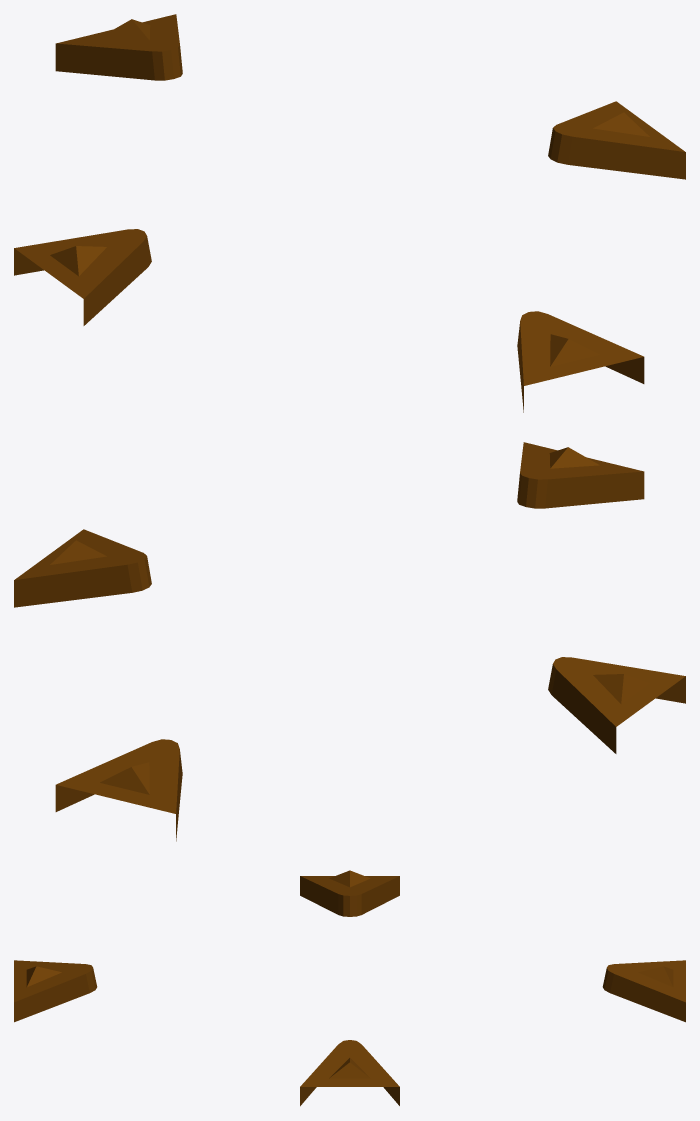
Rendered from Card_TrapMesh01.fbx.
The picture shows the model from 3 angles, top to bottom: view 1: azimuth 30°, elevation 25°; view 2: azimuth 150°, elevation 25°; view 3: azimuth 270°, elevation 25°; orthographic projection. The views are drawn at different scales.
Visible parts, largest first — view 1: Card_TrapMesh01; view 2: Card_TrapMesh01; view 3: Card_TrapMesh01.
Part boxes in pixels (box(x1,y1,x2,y2)): Card_TrapMesh01: box(14, 14, 685, 412); Card_TrapMesh01: box(14, 442, 685, 841); Card_TrapMesh01: box(14, 870, 685, 1106).
Bounding box in the file's own units: 1.35 × 0.1047 × 1.82.
